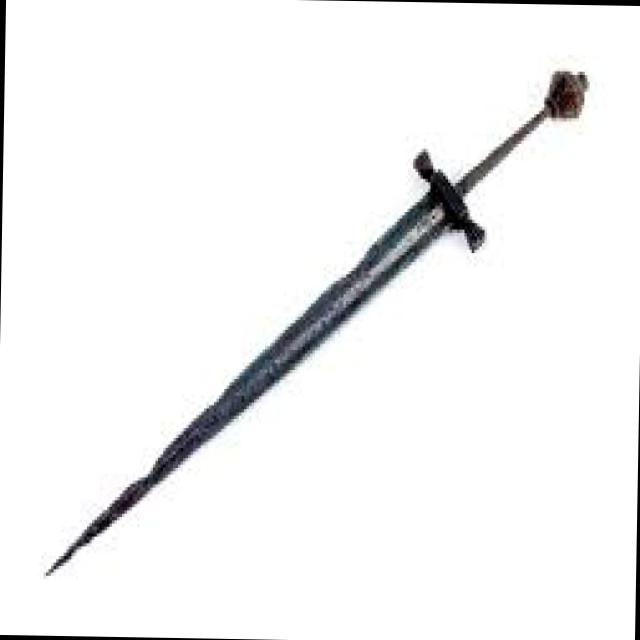Gun: (32, 52, 606, 597)
